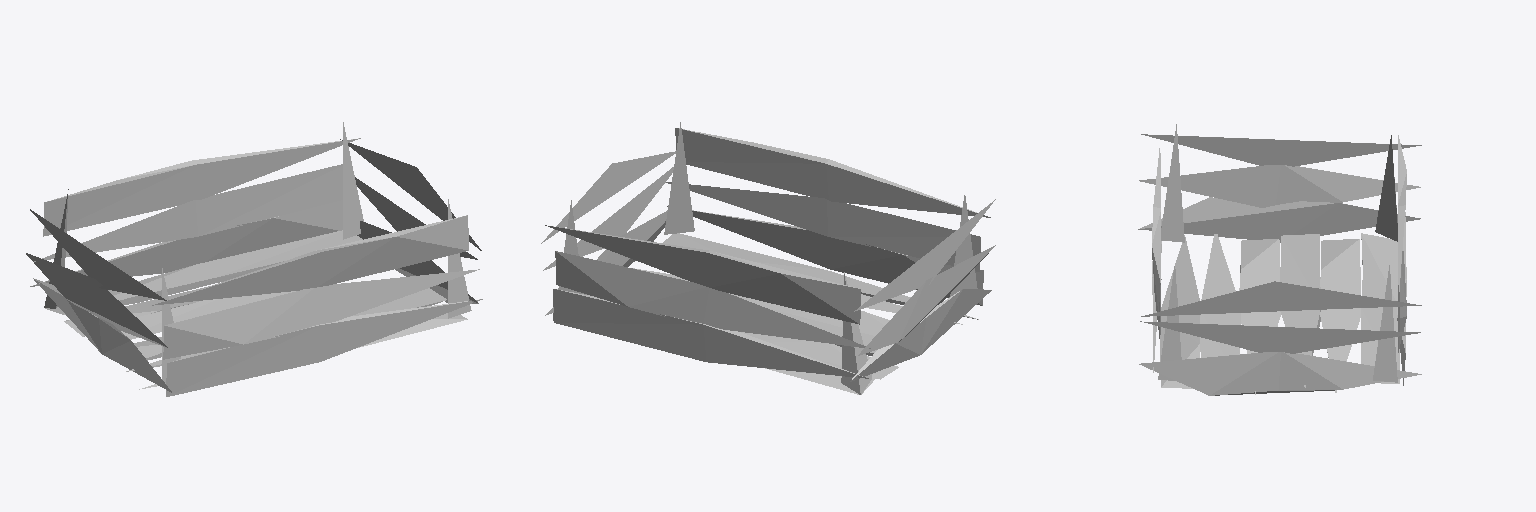
Rendered from Crate_LOD2.obj.
3 renders of one model, left to right at view 1: azimuth 30°, elevation 25°; view 2: azimuth 150°, elevation 25°; view 3: azimuth 270°, elevation 25°, orthographic.
Parts seen in each view (by area): view 1: Crate; view 2: Crate; view 3: Crate.
Part boxes in pixels (x1,y1,x2,y2): Crate: (26,122,482,396); Crate: (541,122,995,394); Crate: (1138,124,1421,395).
Size of the model in its own units: 0.8445 by 0.3038 by 0.6337.